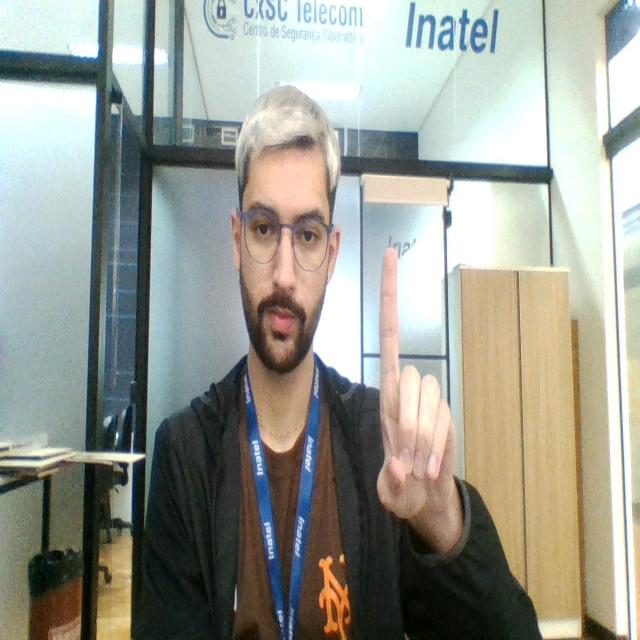D2: (369, 240, 459, 540)
